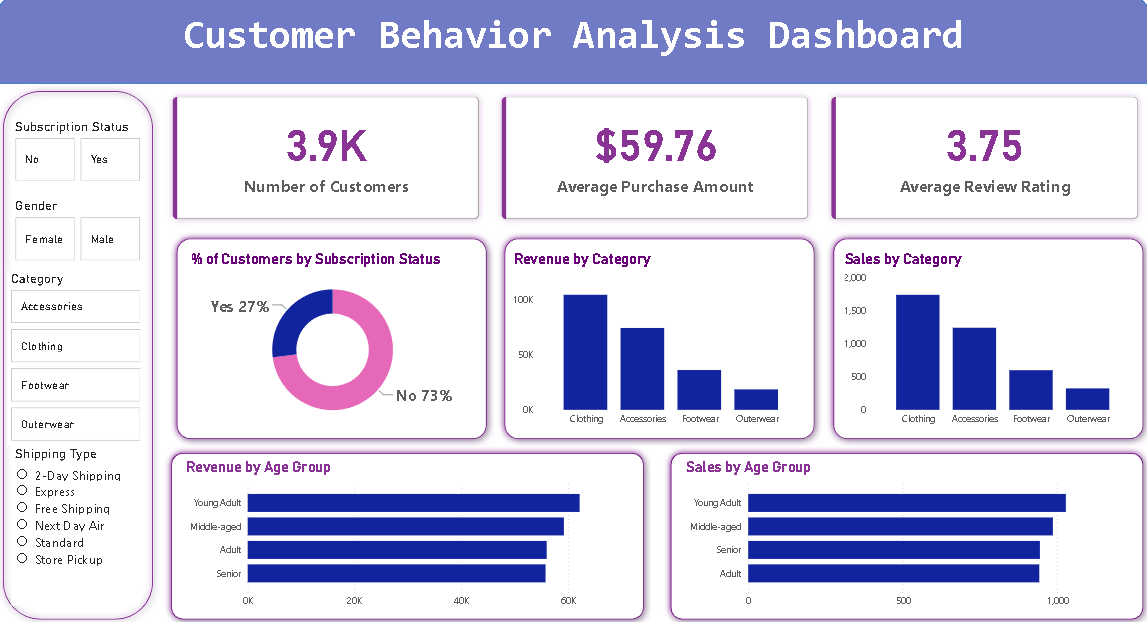

The page's visual inventory and layout, read from the dashboard file:
{"tool":"powerbi","page":{"name":"Page 1","canvas":[1500,820],"ordinal":0},"visuals":[{"type":"cardVisual","fields":{"Data":["public customer.Number of Customers","public customer.Average Purchase Amount","public customer.Average Review Rating"]},"box":[212.8,115.8,1286.3,191.8],"z":0},{"type":"shape","box":[0,0,1499.4,115.3],"z":1000},{"type":"shape","box":[225.4,307,420.5,278.6],"z":2000},{"type":"shape","box":[218.3,585.6,631.7,234.2],"z":2500,"group":"g1"},{"type":"donutChart","title":"% of Customers by Subscription Status","fields":{"Category":["public customer.subscription_status"],"Y":["CountNonNull(public customer.customer_id)"]},"box":[248.4,331.8,376.2,237.8],"z":3000},{"type":"shape","box":[1078.9,307,420.5,278.6],"z":4000},{"type":"shape","box":[652.1,307,420.5,278.6],"z":5000},{"type":"clusteredColumnChart","title":"Revenue by Category","fields":{"Y":["Sum(public customer.purchase_amount)"],"Category":["public customer.category"]},"box":[667.2,331.8,385.1,237.8],"z":6000},{"type":"clusteredColumnChart","title":"Sales by Category","fields":{"Y":["CountNonNull(public customer.customer_id)"],"Category":["public customer.category"]},"box":[1096.6,331.8,385.1,237.8],"z":7000},{"type":"shape","box":[0,115.3,212.9,704.5],"z":8000},{"type":"advancedSlicerVisual","fields":{"Values":["public customer.subscription_status"]},"box":[19.5,161.5,173.9,85.2],"z":9000},{"type":"advancedSlicerVisual","fields":{"Values":["public customer.gender"]},"box":[19.5,264.4,173.9,85.2],"z":10000},{"type":"advancedSlicerVisual","fields":{"Values":["public customer.category"]},"box":[14,359,178.9,226.9],"z":11000},{"type":"listSlicer","fields":{"Values":["public customer.shipping_type"]},"box":[19.9,585.9,168.4,207],"z":12000},{"type":"shape","box":[867.7,585.6,631.7,234.2],"z":13000},{"type":"clusteredBarChart","title":"Sales by Age Group","fields":{"Y":["CountNonNull(public customer.customer_id)"],"Category":["public customer.age_group"]},"box":[890.8,601.5,585.6,204.1],"z":14000},{"type":"group","id":"g1","title":"Group 1","box":[218.3,585.6,631.7,234.2],"z":15000},{"type":"textbox","title":"Customer Behavior Analysis Dashboard","box":[0,0,1499.2,115.8],"z":16000},{"type":"clusteredBarChart","title":"Revenue by Age Group","fields":{"Y":["Sum(public customer.purchase_amount)"],"Category":["public customer.age_group"]},"box":[241.4,601.6,585.6,204.1],"z":17500,"group":"g1"}]}

Visuals, with their boxes in screenshot pixels (x1, y1, x2, y2), scaled from the page's 1500x820 canvas onto the 1147x622 screenshot:
cardVisual - public customer.Number of Customers x public customer.Average Purchase Amount: 163,88,1146,233
shape: 0,0,1146,87
shape: 172,233,494,444
shape: 167,444,650,621
"% of Customers by Subscription Status" donutChart: 190,252,478,432
shape: 825,233,1146,444
shape: 499,233,820,444
"Revenue by Category" clusteredColumnChart: 510,252,805,432
"Sales by Category" clusteredColumnChart: 839,252,1133,432
shape: 0,87,163,621
advancedSlicerVisual - public customer.subscription_status: 15,123,148,187
advancedSlicerVisual - public customer.gender: 15,201,148,265
advancedSlicerVisual - public customer.category: 11,272,148,444
listSlicer - public customer.shipping_type: 15,444,144,601
shape: 664,444,1146,621
"Sales by Age Group" clusteredBarChart: 681,456,1129,611
"Group 1" group: 167,444,650,621
"Customer Behavior Analysis Dashboard" textbox: 0,0,1146,88
"Revenue by Age Group" clusteredBarChart: 185,456,632,611
